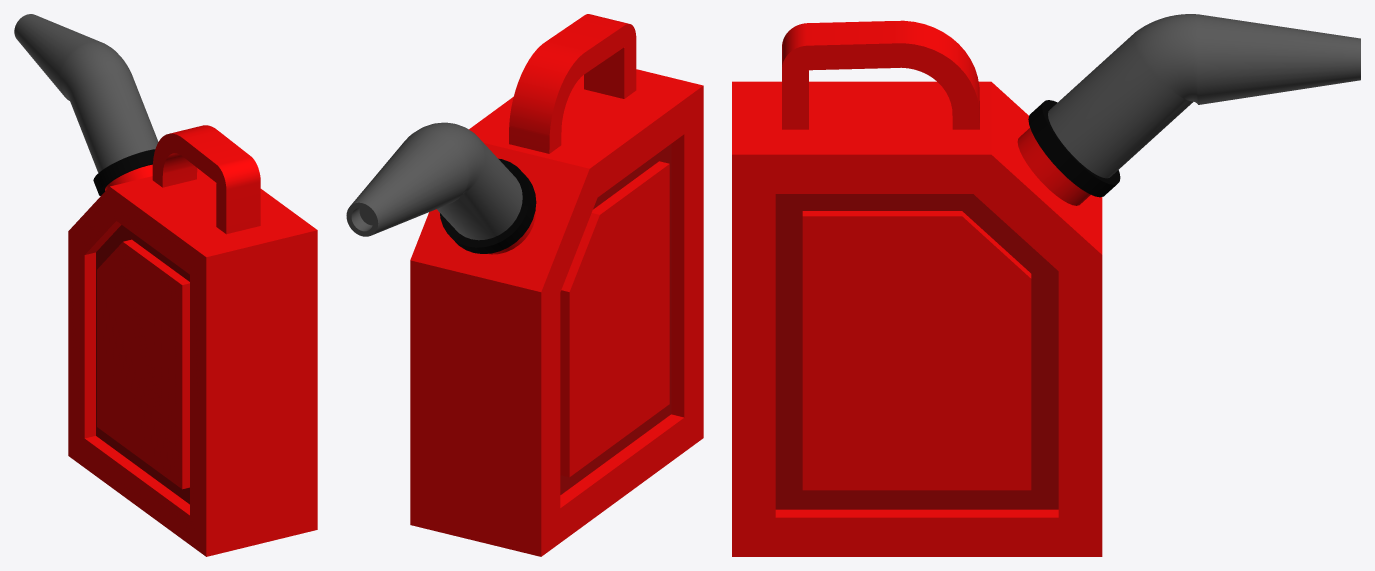
The model's file is fuel.fbx.
3 renders of one model, left to right at view 1: azimuth 30°, elevation 25°; view 2: azimuth 150°, elevation 25°; view 3: azimuth 270°, elevation 25°, orthographic. The views are drawn at different scales.
Visible parts, largest first — view 1: Cube; view 2: Cube; view 3: Cube.
Boxes of the visible parts, bbox=[...] form: Cube: bbox=[14, 14, 317, 556]; Cube: bbox=[346, 14, 703, 556]; Cube: bbox=[732, 14, 1360, 556].
Size of the model in its own units: 77.75 by 250 by 283.
